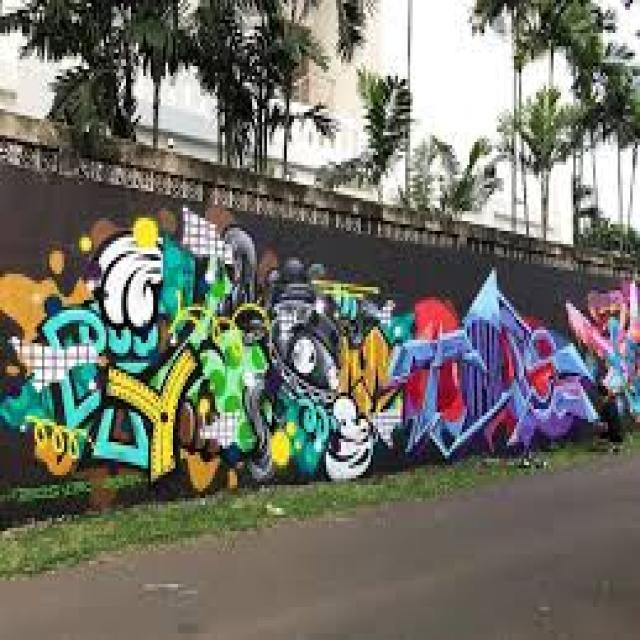-: (1, 206, 414, 494), (390, 267, 600, 457), (567, 277, 640, 421)
